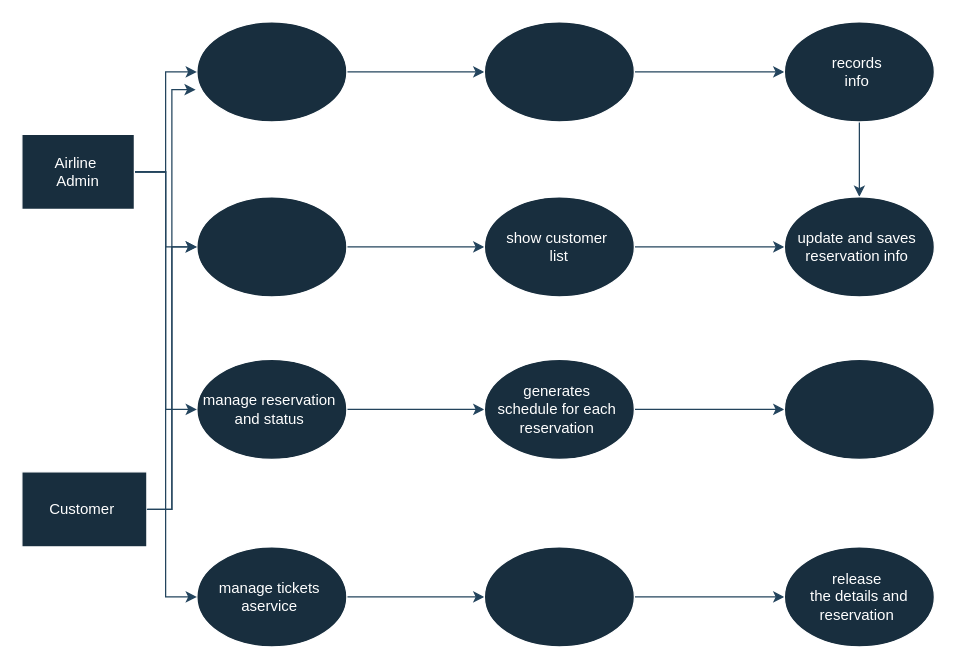
This 956x669 diagram has some shape labels left out. Here are the shapes that lost their labels. From the top down, the box of each, then its label:
(196, 21, 347, 122): manage customer info
(483, 21, 634, 122): validates customer info
(196, 196, 347, 297): monitor customer reservation
(783, 358, 934, 459): saves the schedule made
(483, 546, 634, 647): show the list of tickets and service
